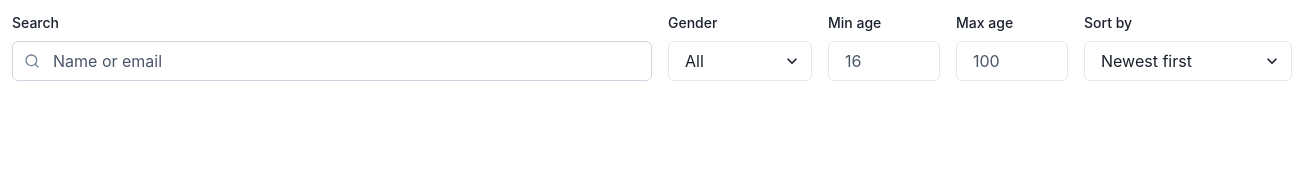
CustomerListToolbar › shows an error when the maximum age is below the minimum age
Type "40" into the number field labelled "Min age". click: (884, 61)
box: left=828, top=41, right=940, bottom=81
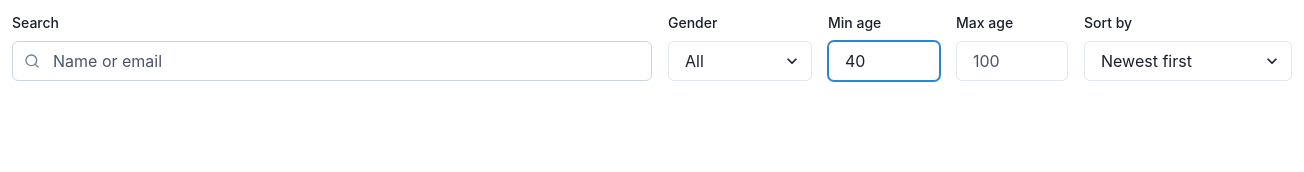
Type "30" into the number field labelled "Max age". click: (1012, 61)
box: left=956, top=41, right=1068, bottom=81
Wait 300 ms
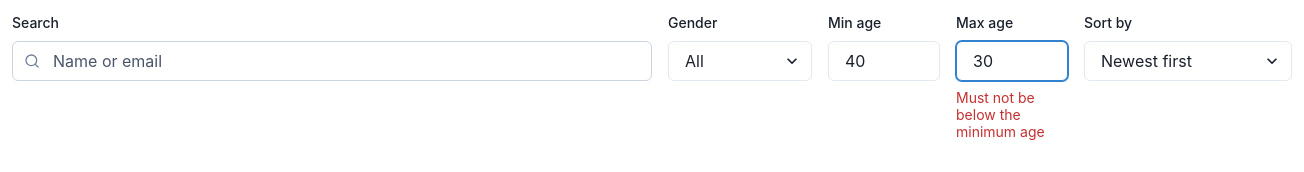
Check: the text "Must not be below the minimum age" is shown, box left=956, top=89, right=1045, bottom=140
